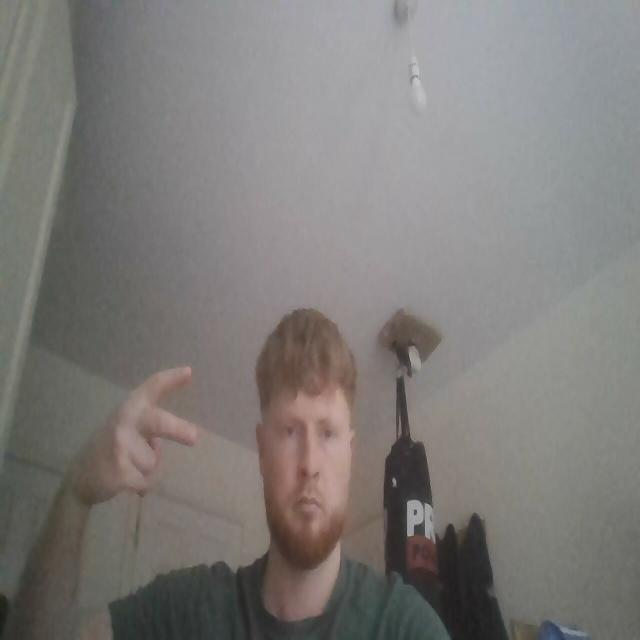scissors: (91, 364, 201, 510)
